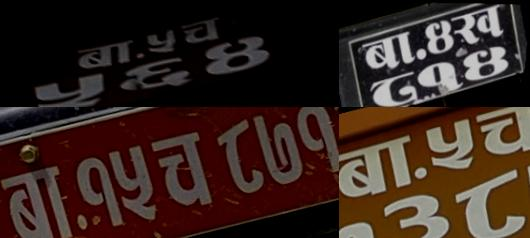0: (339, 131, 424, 204)
1: (65, 142, 136, 238), (287, 107, 339, 184), (413, 52, 469, 102)
4: (193, 30, 287, 82), (457, 35, 516, 88), (419, 13, 459, 58)
5: (103, 133, 175, 232), (24, 68, 123, 107), (136, 24, 188, 58)
6: (113, 52, 206, 100), (421, 113, 487, 176)
7: (246, 107, 315, 192), (339, 205, 389, 238)
8: (204, 109, 276, 204), (364, 66, 424, 107)
9: (472, 107, 530, 162)
ba: (0, 154, 91, 238), (373, 184, 464, 238), (357, 25, 420, 79), (67, 35, 146, 73)
cha: (143, 122, 227, 222), (174, 13, 232, 47)
kha: (447, 2, 513, 51)
pa: (451, 163, 530, 238)
